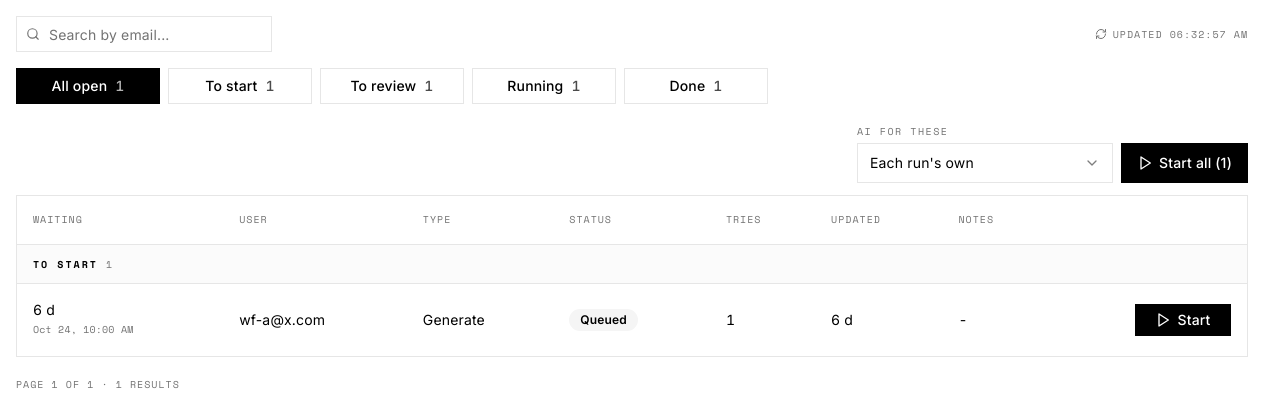
Scenario: AdminCadQueuePage › says Start failed when the request fails
Click the button "Start all (1)": coordinates (1184, 163) [1121,143,1248,183]
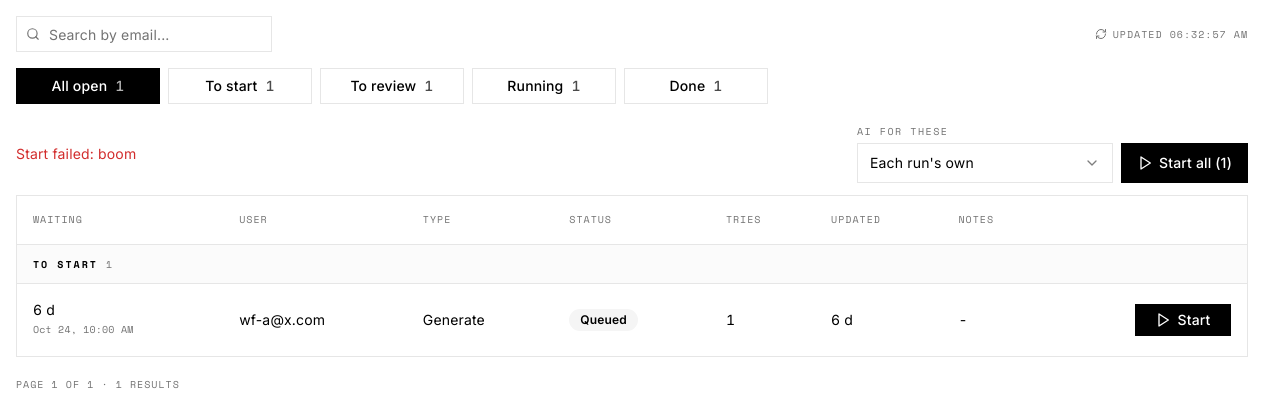
Now the text "Start failed: boom" is shown, box [16,144,136,162]
